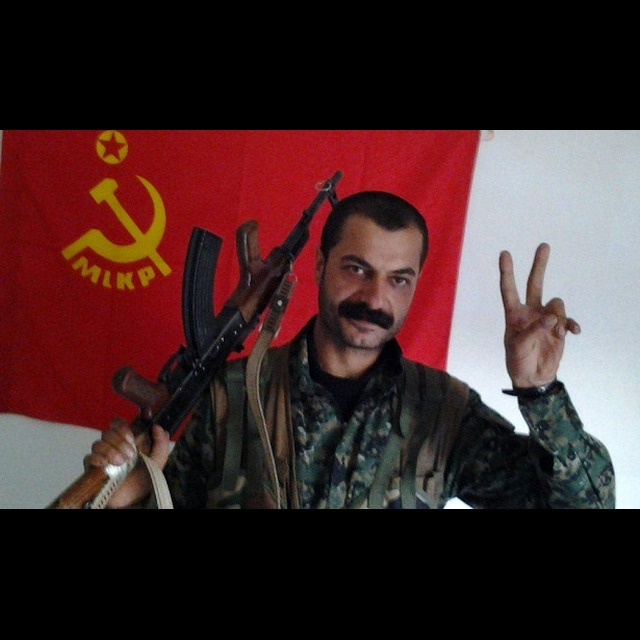MLKP: (62, 131, 174, 298)
ZI: (476, 234, 591, 395)
